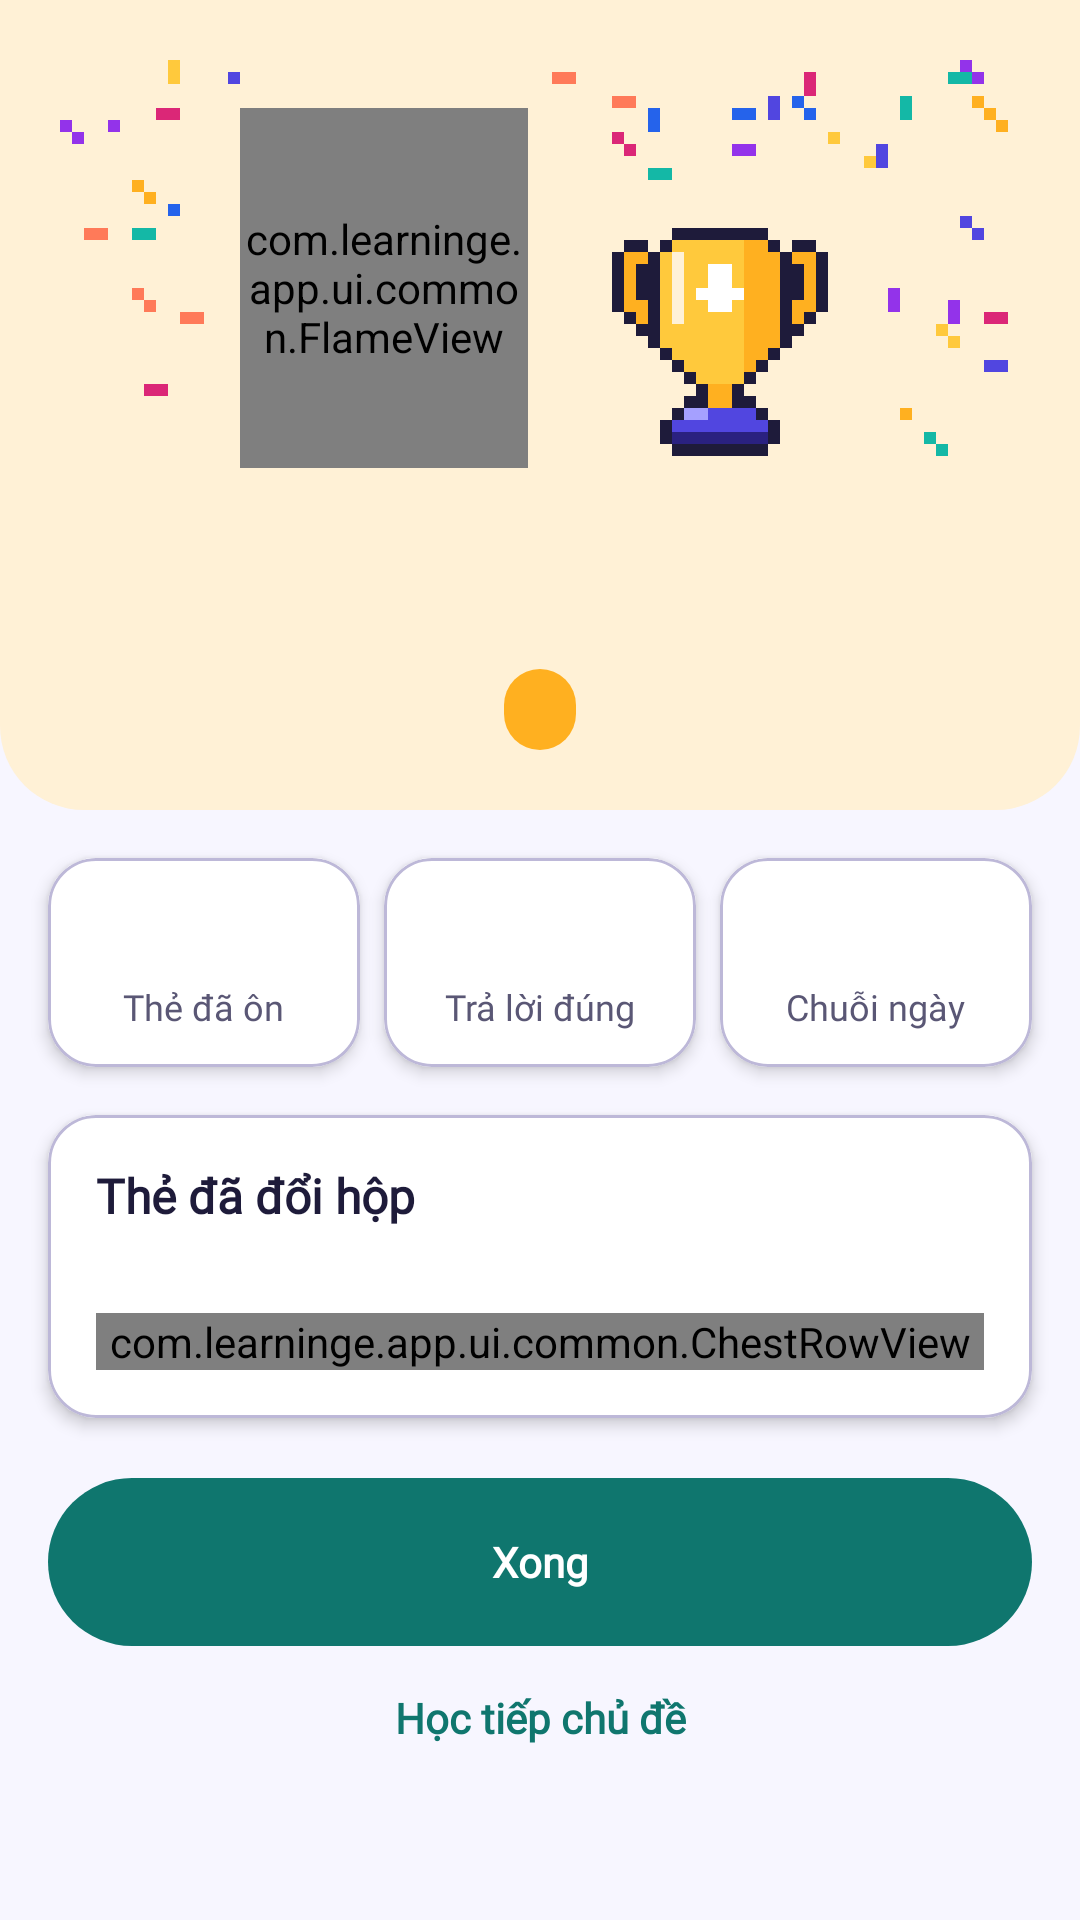

Locate icon controls on the screen. Image size 1080x1920, boxes as bbox=(x1, y1, x2, y2).
trophy: bbox=(612, 228, 828, 456)
